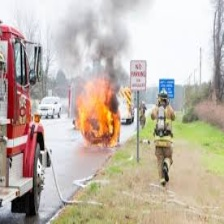fire: (74, 78, 122, 150)
smoke: (54, 1, 142, 72)
